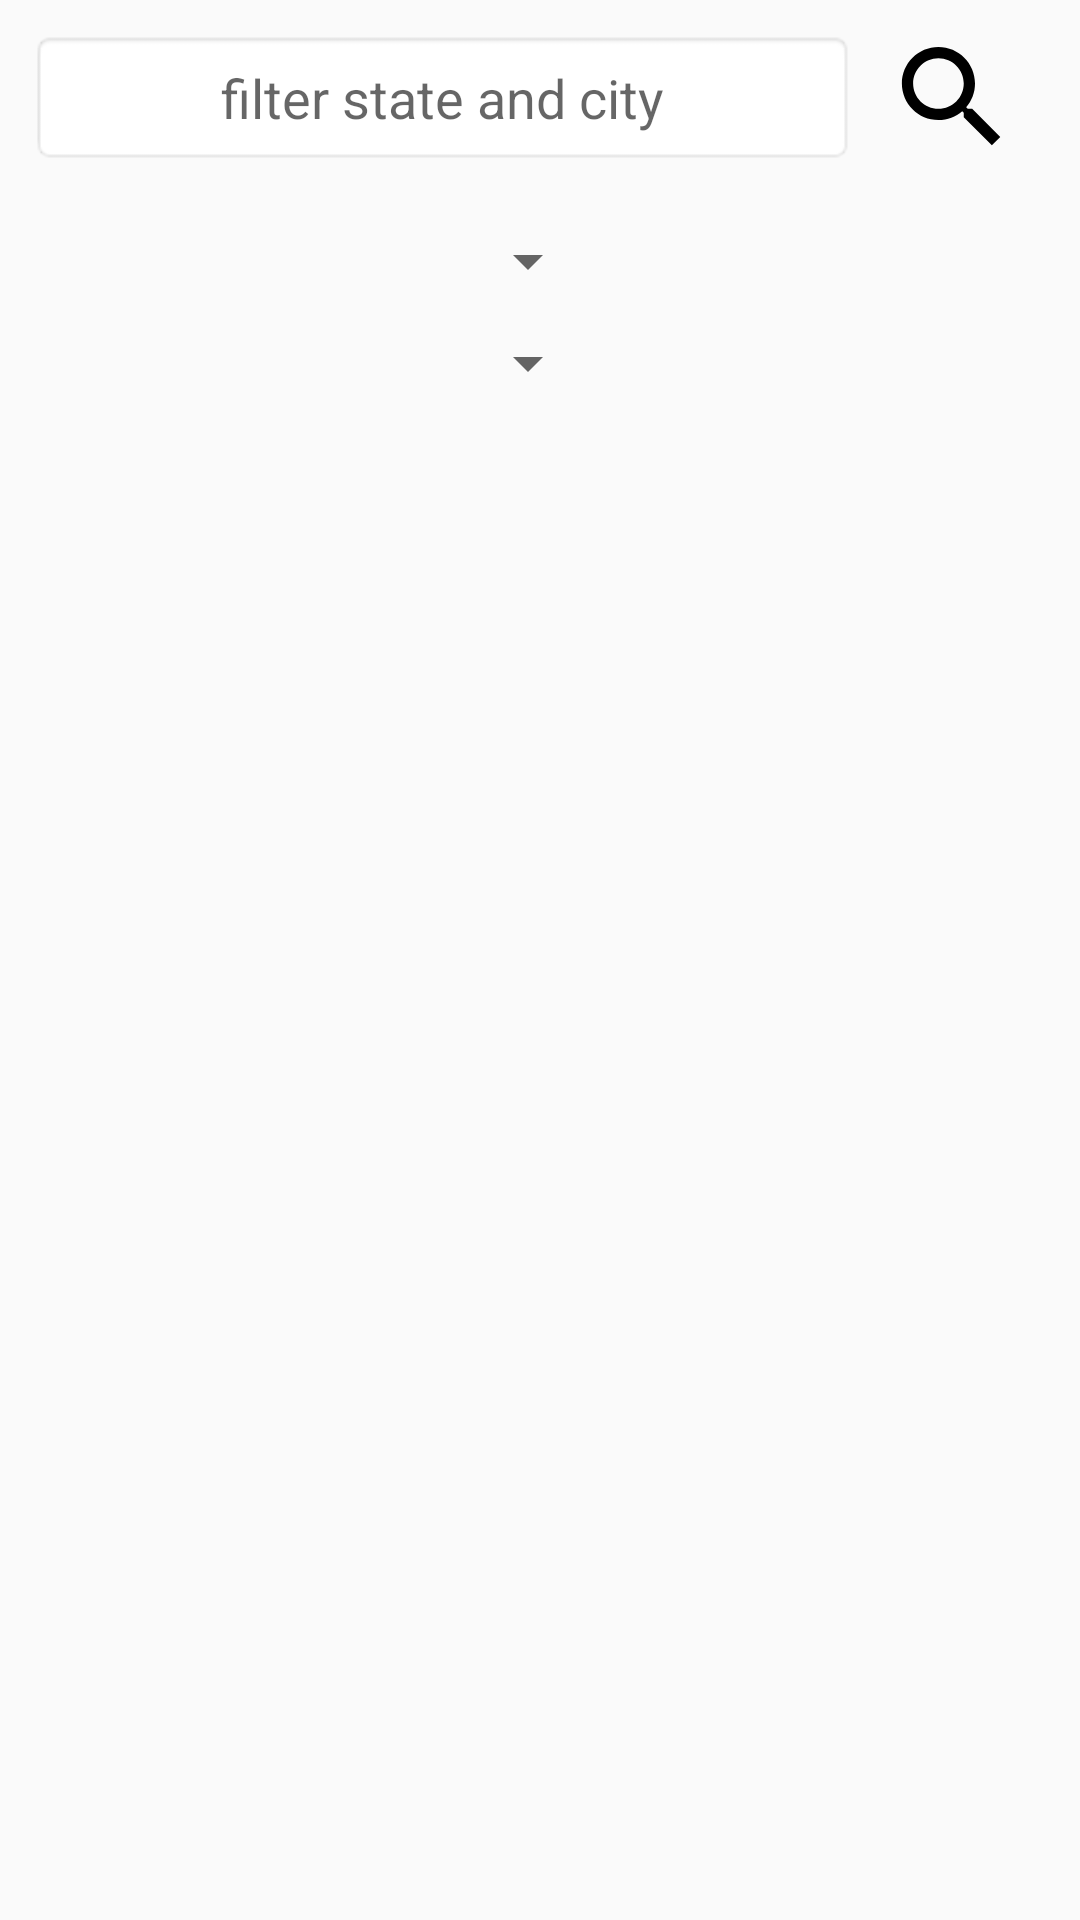

Icons on this 1080×1920 Android screen, each with its box as (x1, y1, x2, y2):
search: (901, 47, 1000, 145)
